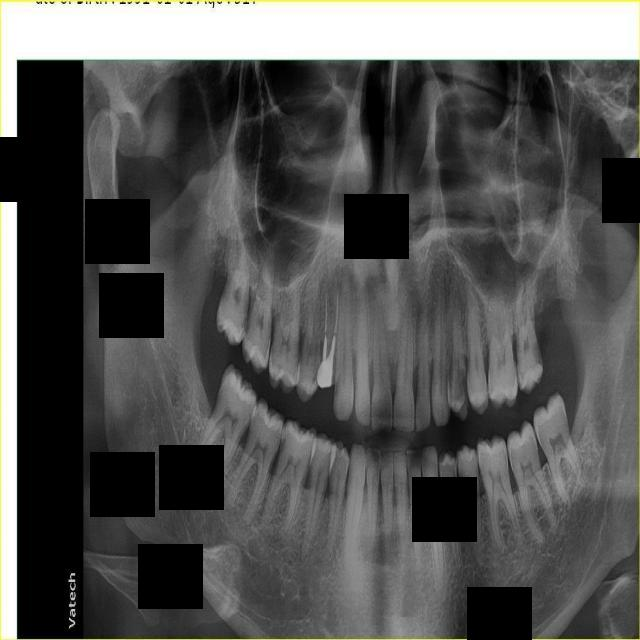71: (315, 332, 339, 389)
74: (334, 292, 340, 334), (325, 292, 328, 333)
Sterngold Implant: (457, 368, 468, 415), (529, 340, 544, 368), (280, 432, 288, 454), (245, 311, 252, 334), (241, 312, 248, 334), (487, 380, 495, 394), (334, 382, 339, 400)
